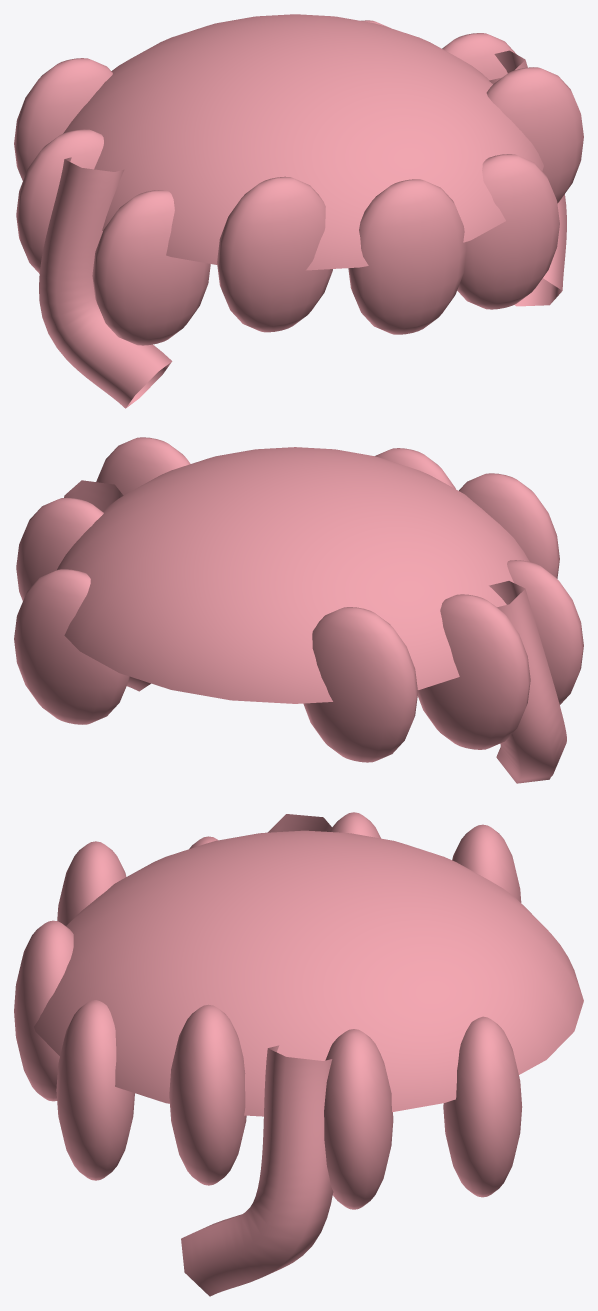
Rendered from wig_pastel.glb.
3 renders of one model, top to bottom at view 1: azimuth 30°, elevation 25°; view 2: azimuth 150°, elevation 25°; view 3: azimuth 270°, elevation 25°, orthographic. The views are drawn at different scales.
Parts seen in each view (by area): view 1: Peluca pastel; view 2: Peluca pastel; view 3: Peluca pastel.
Boxes of the visible parts, x1,y1,x2,y2 form: Peluca pastel: (14,14,583,408); Peluca pastel: (14,437,583,783); Peluca pastel: (14,812,583,1296).
Size of the model in its own units: 0.6698 by 0.3514 by 0.578.
